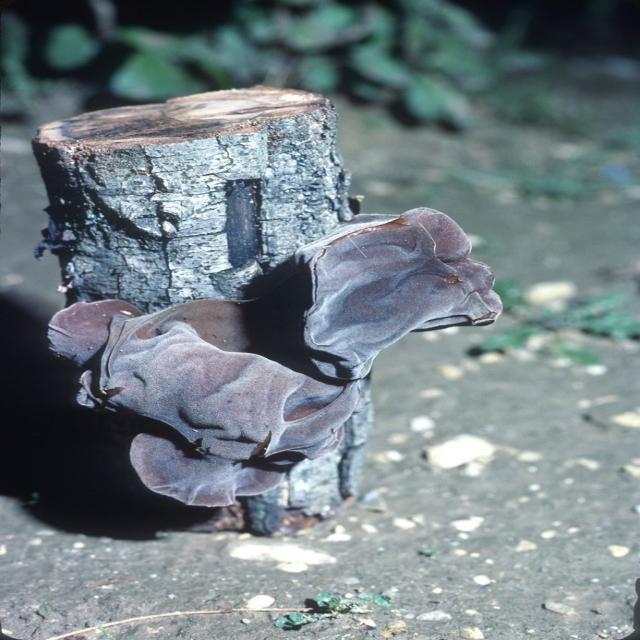Matang: (78, 206, 510, 530)
